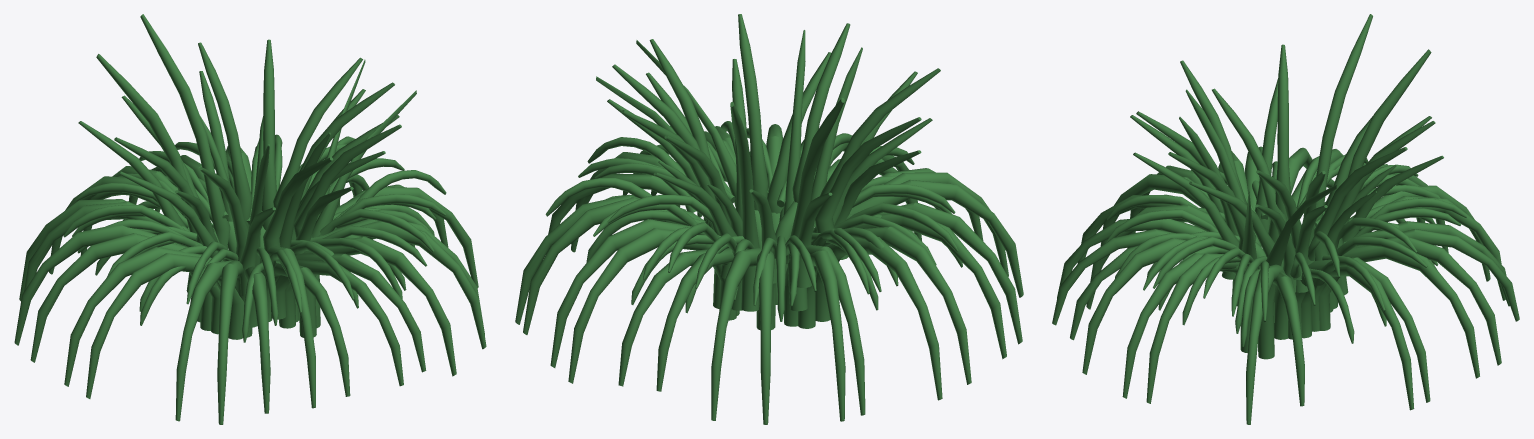
File: coral1.glb
3 views of the same model, side by side, from view 1: azimuth 30°, elevation 25°; view 2: azimuth 150°, elevation 25°; view 3: azimuth 270°, elevation 25° (orthographic). The views are drawn at different scales.
Visible parts, largest first — view 1: Line002; view 2: Line002; view 3: Line002.
Part boxes in pixels (left/top/right/bottom): Line002: left=14, top=14, right=486, bottom=424; Line002: left=515, top=14, right=1023, bottom=424; Line002: left=1052, top=14, right=1519, bottom=424.
Size of the model in its own units: 2.11 by 1.33 by 2.12.
